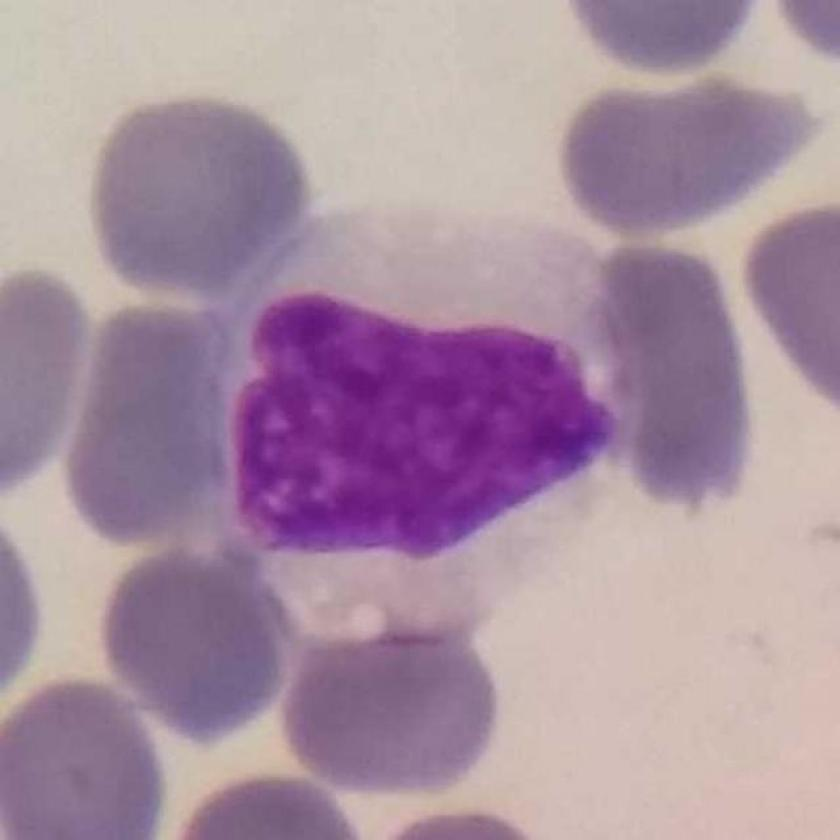monocyte: (208, 204, 648, 647)
